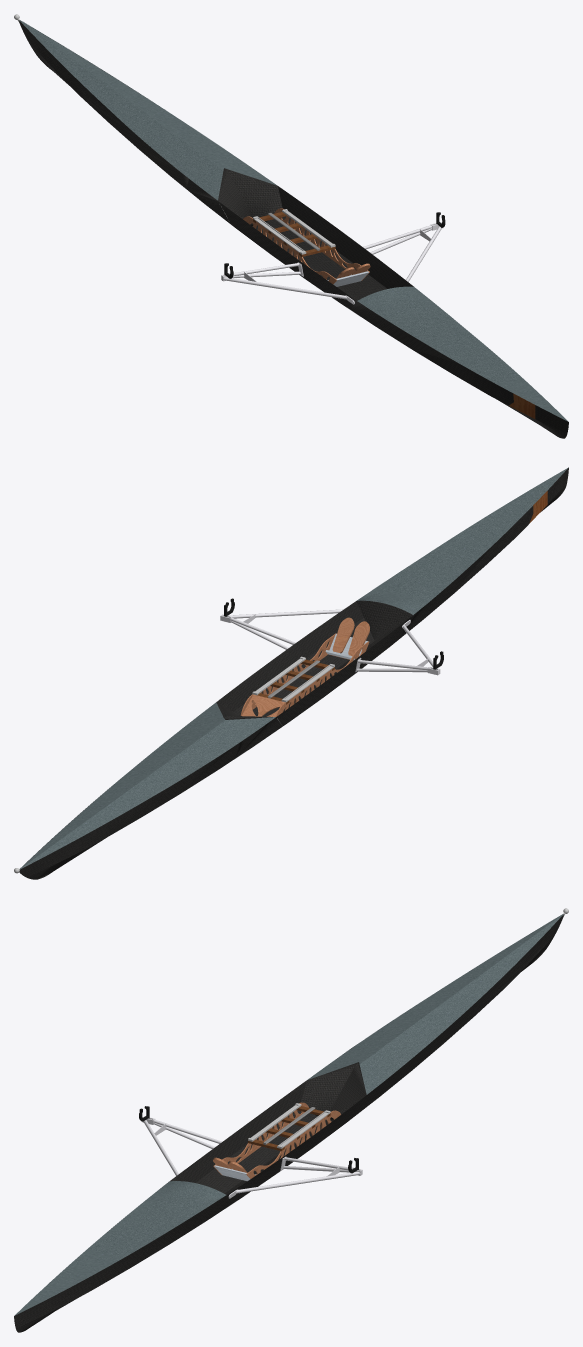
The model's file is model_boat.gltf.
3 views of the same model, one above another, from view 1: azimuth 30°, elevation 25°; view 2: azimuth 150°, elevation 25°; view 3: azimuth 330°, elevation 25° (orthographic).
Parts seen in each view (by area): view 1: root; view 2: root; view 3: root.
Part boxes in pixels (box(x1,y1,x2,y2)): root: box(14, 14, 568, 438); root: box(14, 467, 568, 879); root: box(14, 908, 568, 1332).
Size of the model in its own units: 1.57 by 0.2995 by 6.89.
10 materials, 7 textured.
